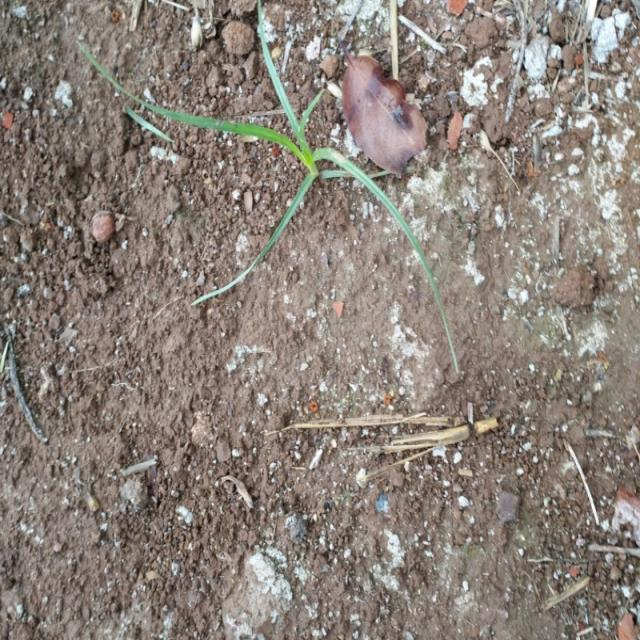sedge: (31, 41, 466, 332)
